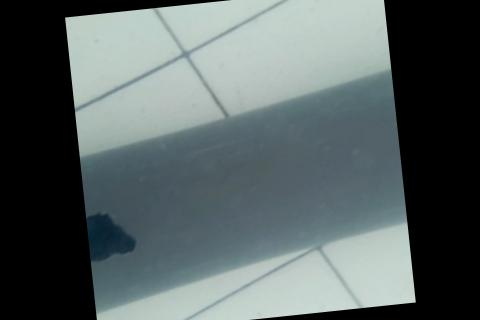kebocoran: (85, 207, 142, 265)
